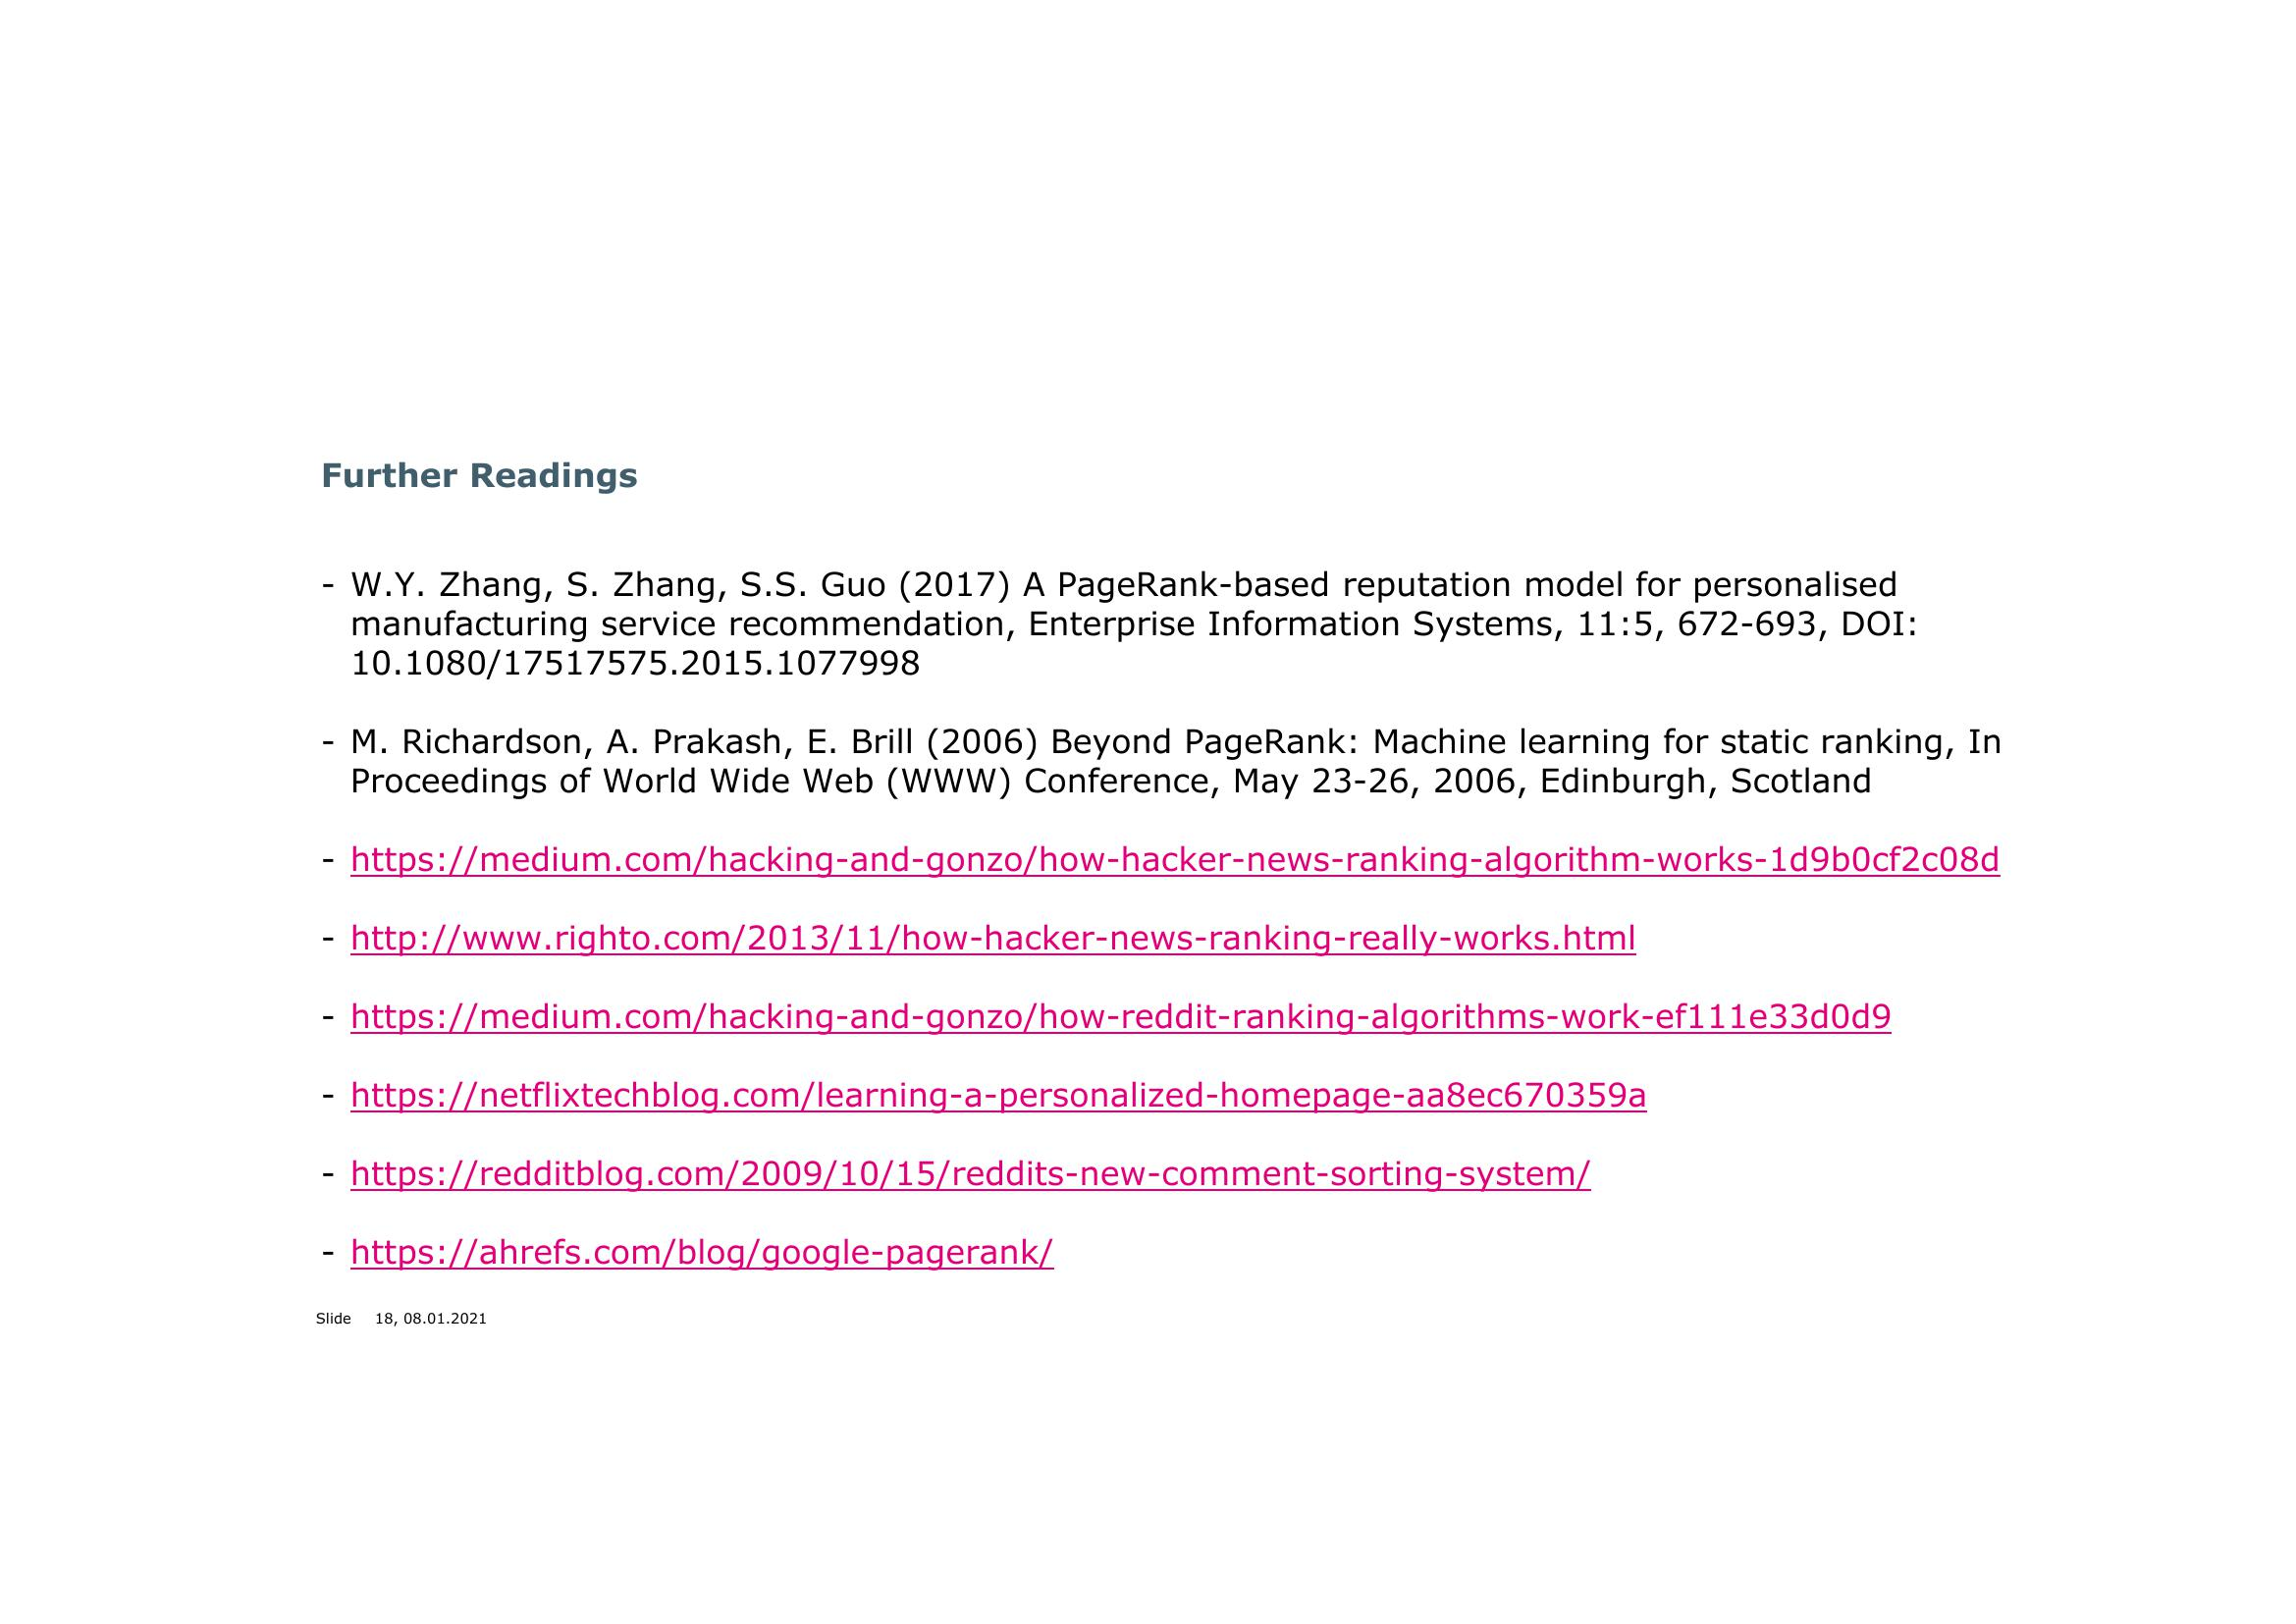Title: (321, 434, 650, 508)
